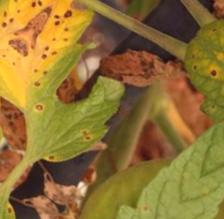Tomato Septoria leaf spot: (0, 0, 152, 156), (0, 97, 21, 159)
